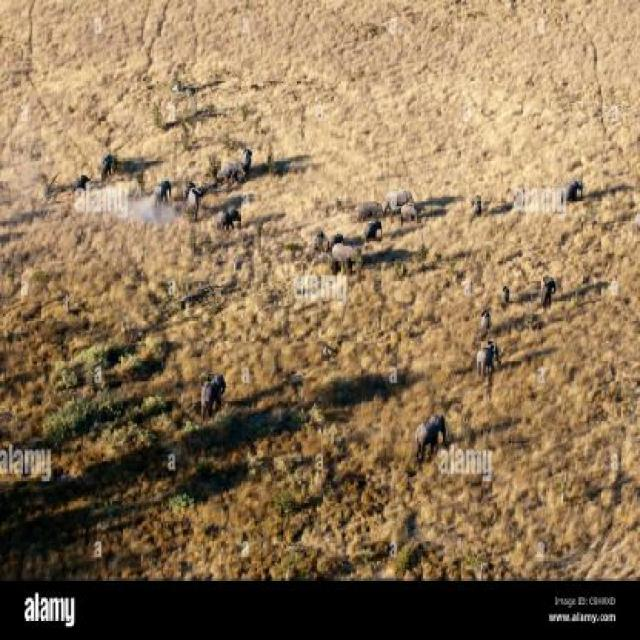elephant: (415, 406, 454, 459), (200, 370, 229, 412), (384, 178, 421, 210), (473, 343, 509, 372), (348, 196, 384, 219), (328, 245, 361, 270), (559, 178, 586, 207), (74, 168, 97, 202), (217, 204, 248, 228), (540, 262, 555, 310), (361, 221, 385, 250), (498, 279, 518, 312), (150, 173, 172, 202), (214, 156, 238, 182), (475, 304, 494, 336), (190, 178, 205, 216), (102, 148, 118, 180), (398, 205, 420, 227), (309, 228, 325, 252), (468, 189, 484, 213), (242, 142, 256, 167), (327, 228, 345, 247), (180, 178, 194, 196)
